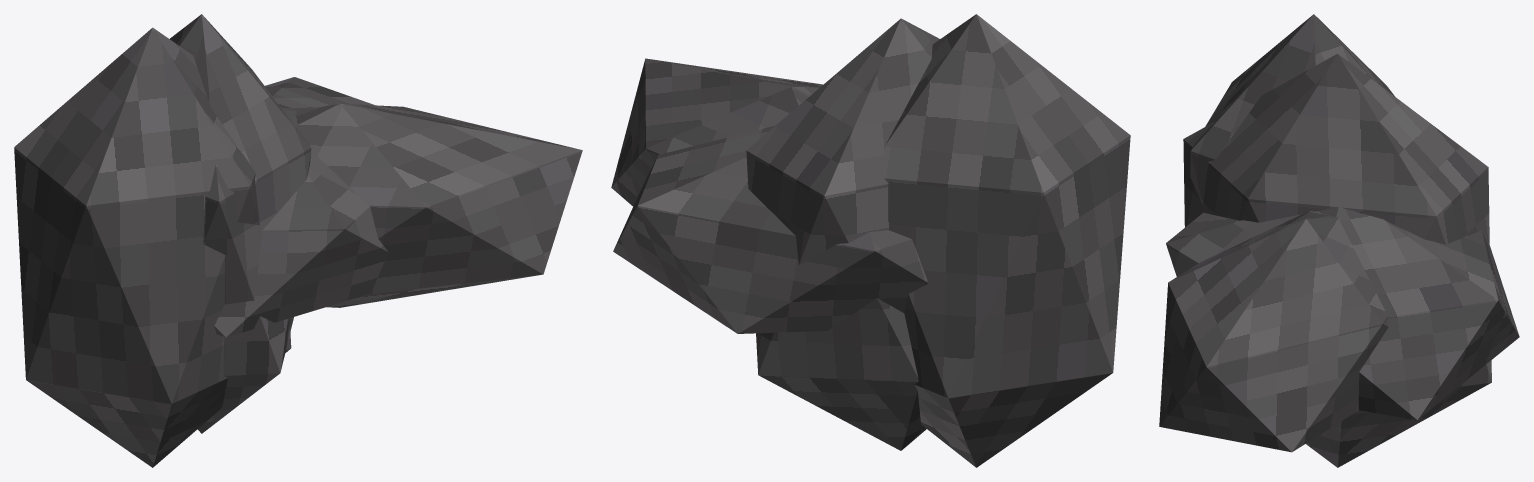
The model's file is ruin_60.glb.
3 views of the same model, side by side, from view 1: azimuth 30°, elevation 25°; view 2: azimuth 150°, elevation 25°; view 3: azimuth 270°, elevation 25° (orthographic). The views are drawn at different scales.
Visible parts, largest first — view 1: WeatheredStone, WeatheredStone.003, WeatheredStone.001, WeatheredStone.002; view 2: WeatheredStone, WeatheredStone.001, WeatheredStone.002, WeatheredStone.003; view 3: WeatheredStone.003, WeatheredStone.001, WeatheredStone.002, WeatheredStone.
Boxes of the visible parts, box(x1,y1,x2,y2) form: WeatheredStone: box(14, 27, 291, 467); WeatheredStone.003: box(292, 103, 582, 307); WeatheredStone.001: box(170, 14, 311, 433); WeatheredStone.002: box(214, 77, 388, 337); WeatheredStone: box(884, 14, 1130, 467); WeatheredStone.001: box(746, 18, 939, 450); WeatheredStone.002: box(613, 125, 928, 333); WeatheredStone.003: box(611, 58, 822, 206); WeatheredStone.003: box(1159, 211, 1388, 452); WeatheredStone.001: box(1183, 53, 1491, 467); WeatheredStone.002: box(1166, 207, 1519, 420); WeatheredStone: box(1190, 14, 1394, 204).
Bounding box in the file's own units: 3.72 × 3.1 × 2.33.
Materials: 1 (1 with a texture image).
